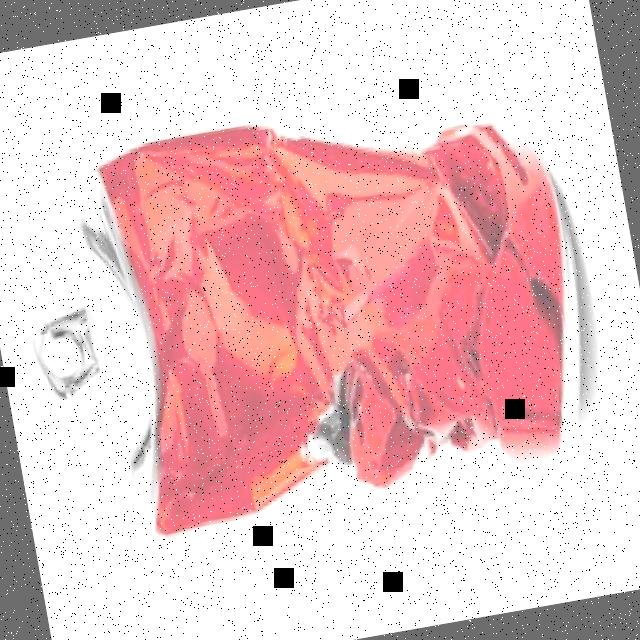can: (0, 56, 625, 580)
